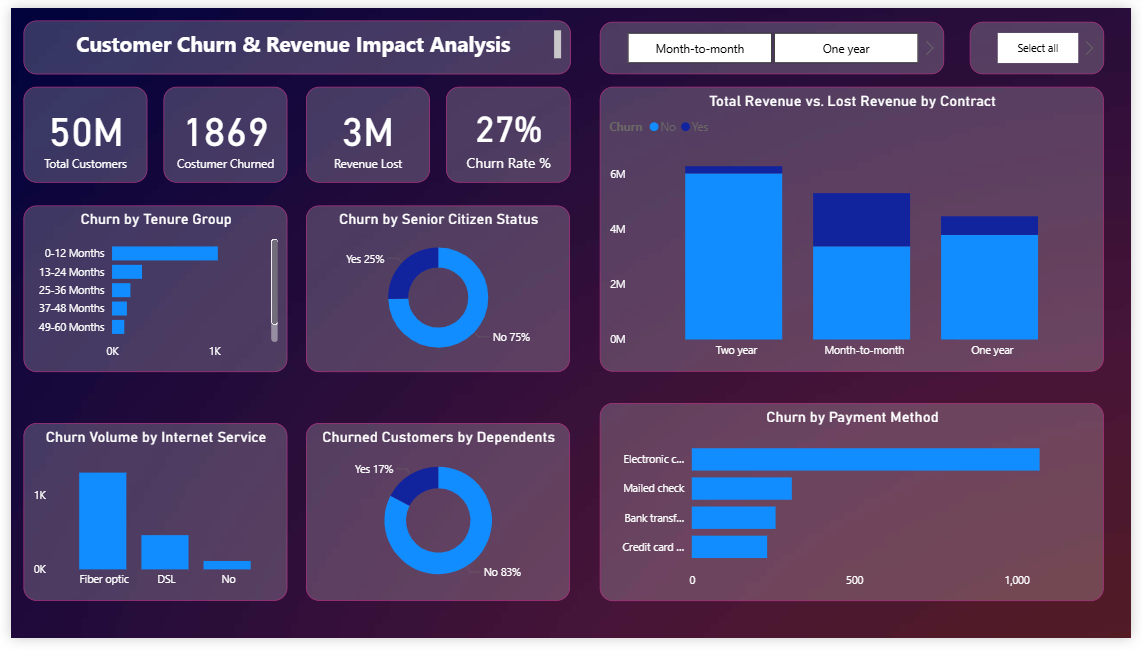

The dashboard page shown, as its layout file describes it:
{"tool":"powerbi","page":{"name":"Page 1","canvas":[1280,720],"ordinal":0},"visuals":[{"type":"columnChart","title":"Total Revenue vs. Lost Revenue by Contract","fields":{"Category":["churn_analysis telco_churn.Contract"],"Y":["Sum(churn_analysis telco_churn.TotalCharges)"],"Series":["churn_analysis telco_churn.Churn"]},"box":[672.4,90.6,576.3,325.2],"z":0},{"type":"clusteredBarChart","title":"Churn by Payment Method","fields":{"Category":["churn_analysis telco_churn.PaymentMethod"],"Y":["CountNonNull(churn_analysis telco_churn.customerID)"]},"box":[672.4,451.5,576.3,226.4],"z":1000},{"type":"textbox","box":[13.7,13.7,625.7,61.7],"z":2000},{"type":"card","fields":{"Values":["Sum(churn_analysis telco_churn.Total Customers)"]},"box":[13.7,90.6,141.3,109.8],"z":3000},{"type":"card","fields":{"Values":["churn_analysis telco_churn.Churn Rate %"]},"box":[496.7,90.6,142.7,109.8],"z":4000},{"type":"card","fields":{"Values":["CountNonNull(churn_analysis telco_churn.customerID)"]},"box":[174.3,90.6,141.3,109.8],"z":5000},{"type":"card","fields":{"Values":["Sum(churn_analysis telco_churn.TotalCharges)"]},"box":[337.6,90.6,141.3,109.8],"z":6000},{"type":"donutChart","title":"Churned Customers by Dependents","fields":{"Category":["churn_analysis telco_churn.Dependents"],"Y":["CountNonNull(churn_analysis telco_churn.customerID)"]},"box":[337.6,474.8,301.9,203.1],"z":7000},{"type":"columnChart","title":"Churn Volume by Internet Service","fields":{"Category":["churn_analysis telco_churn.InternetService"],"Y":["CountNonNull(churn_analysis telco_churn.customerID)"]},"box":[13.7,474.8,301.9,203.1],"z":8000},{"type":"donutChart","title":"Churn by Senior Citizen Status","fields":{"Category":["churn_analysis telco_churn.SeniorCitizen_Text"],"Y":["CountNonNull(churn_analysis telco_churn.customerID)"]},"box":[337.6,225,301.9,190.7],"z":9000},{"type":"barChart","title":"Churn by Tenure Group","fields":{"Y":["CountNonNull(churn_analysis telco_churn.customerID)"],"Category":["churn_analysis telco_churn.tenure_group"]},"box":[13.7,225,301.9,190.7],"z":10000},{"type":"slicer","fields":{"Values":["churn_analysis telco_churn.Contract"]},"box":[672.4,15.1,393.8,60.4],"z":11000},{"type":"slicer","fields":{"Values":["churn_analysis telco_churn.InternetService"]},"box":[1095,15.1,153.7,60.4],"z":12000}]}

Visuals, with their boxes in screenshot pixels (x1, y1, x2, y2), scaled from the page's 1280x720 canvas onto the 1142x651 screenshot:
"Total Revenue vs. Lost Revenue by Contract" columnChart: region(600, 82, 1114, 376)
"Churn by Payment Method" clusteredBarChart: region(600, 408, 1114, 613)
textbox: region(12, 12, 570, 68)
card - Sum(churn_analysis telco_churn.Total Customers): region(12, 82, 138, 181)
card - churn_analysis telco_churn.Churn Rate %: region(443, 82, 570, 181)
card - CountNonNull(churn_analysis telco_churn.customerID): region(156, 82, 282, 181)
card - Sum(churn_analysis telco_churn.TotalCharges): region(301, 82, 427, 181)
"Churned Customers by Dependents" donutChart: region(301, 429, 571, 613)
"Churn Volume by Internet Service" columnChart: region(12, 429, 282, 613)
"Churn by Senior Citizen Status" donutChart: region(301, 203, 571, 376)
"Churn by Tenure Group" barChart: region(12, 203, 282, 376)
slicer - churn_analysis telco_churn.Contract: region(600, 14, 951, 68)
slicer - churn_analysis telco_churn.InternetService: region(977, 14, 1114, 68)
